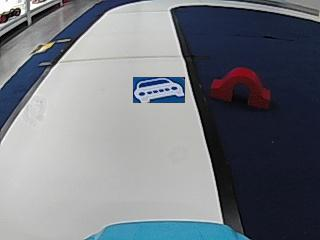bridge: (212, 65, 269, 107)
